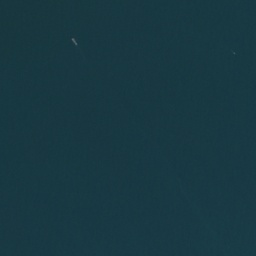Ship: (71, 38, 78, 46), (233, 52, 235, 55)
